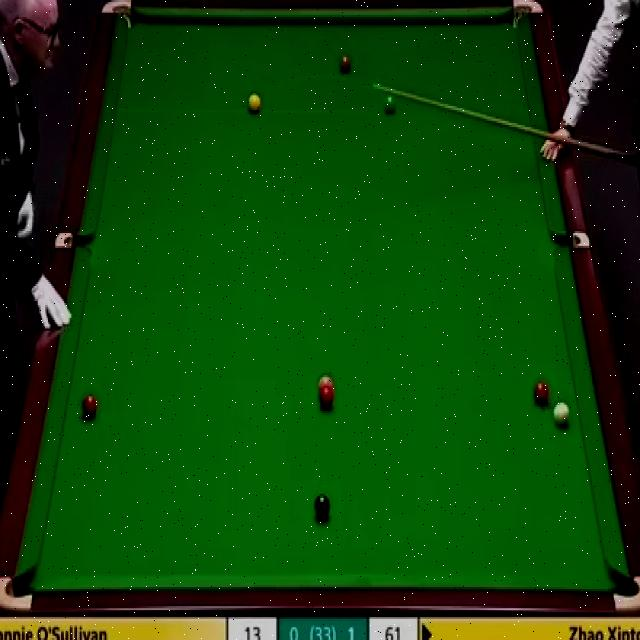black-ball: (312, 493, 332, 518)
brown-ball: (338, 56, 351, 77)
green-ball: (382, 92, 397, 114)
pink-ball: (318, 374, 333, 390)
red-ball: (81, 392, 98, 419), (533, 381, 550, 405), (320, 386, 335, 408)
white-ball: (553, 401, 570, 427)
yellow-ball: (247, 92, 261, 114)
